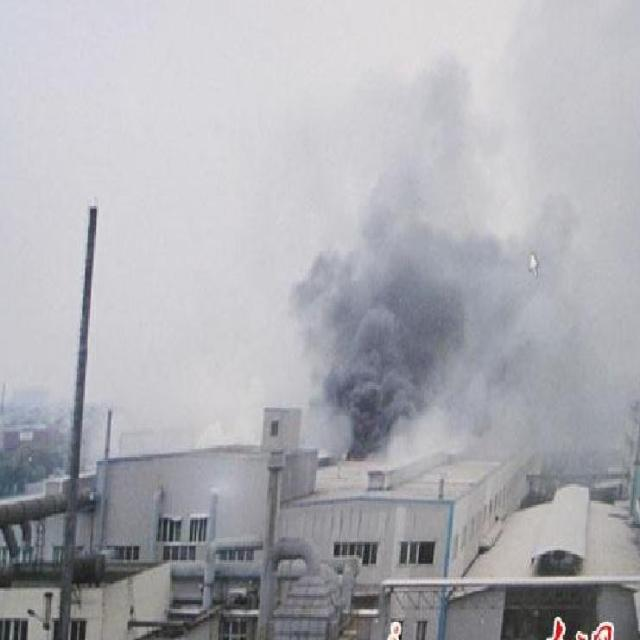smoke: (278, 49, 630, 459)
